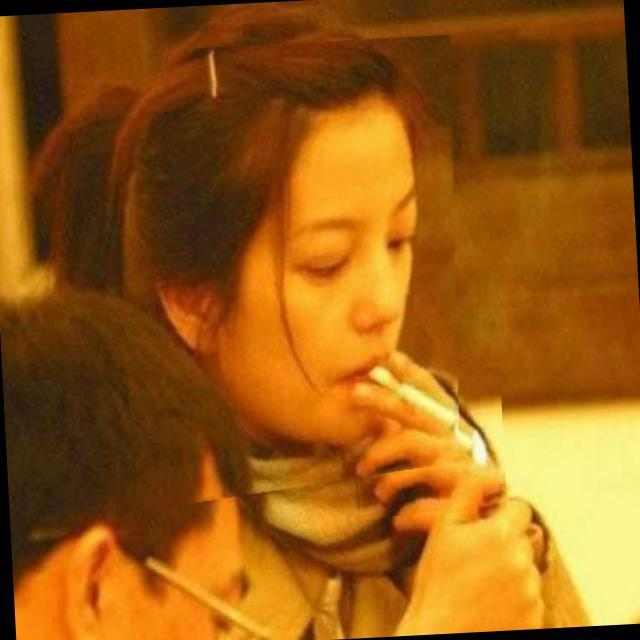cigarette: (348, 366, 507, 522)
